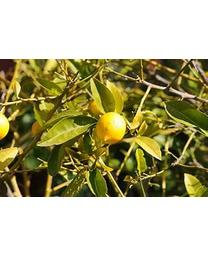lemon: (95, 114, 126, 142)
